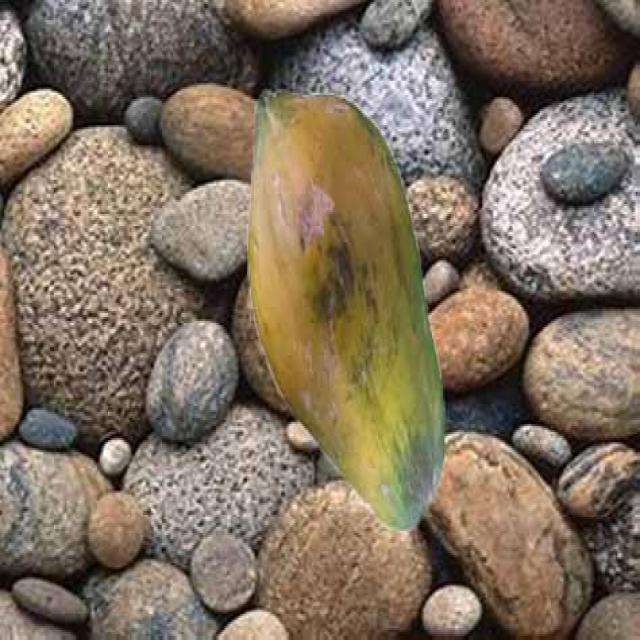Pepaya rippen: (236, 67, 448, 527)
